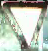Give way: (0, 0, 47, 48)
